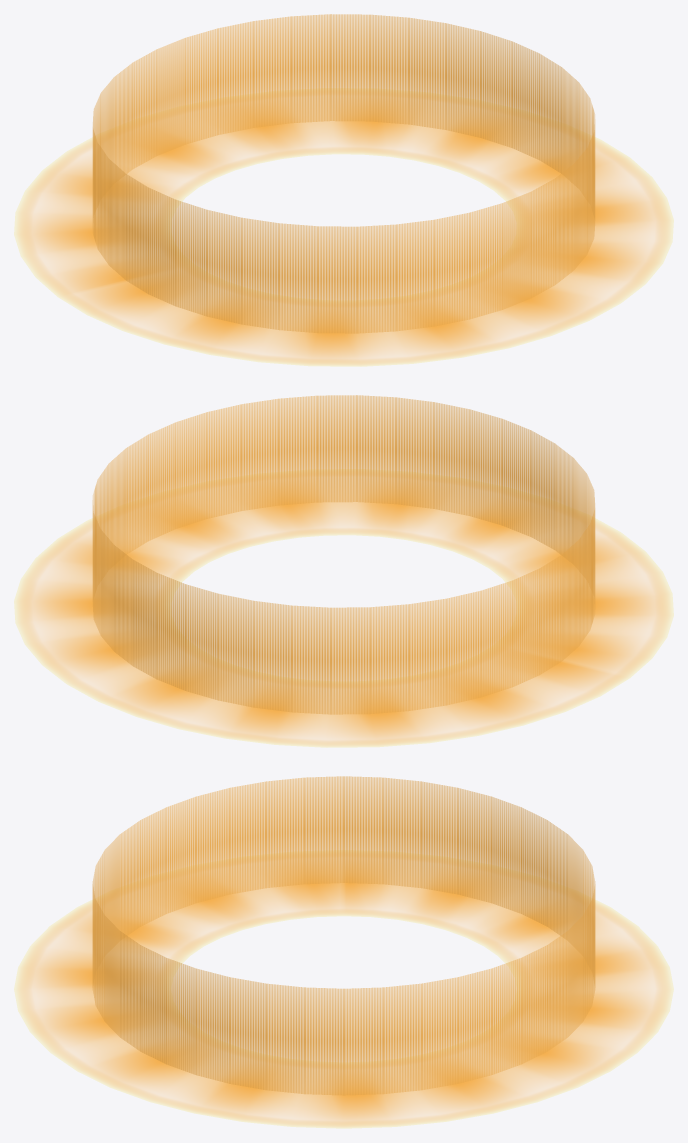
Rendered from fx_mring0.glb.
The picture shows the model from 3 angles, top to bottom: view 1: azimuth 30°, elevation 25°; view 2: azimuth 150°, elevation 25°; view 3: azimuth 270°, elevation 25°; orthographic projection.
Parts seen in each view (by area): view 1: fx_burst; view 2: fx_burst; view 3: fx_burst.
Boxes of the visible parts, x1,y1,x2,y2 form: fx_burst: (14, 14, 673, 366); fx_burst: (14, 395, 673, 747); fx_burst: (14, 776, 673, 1128).
Bounding box in the file's own units: 8.4 × 1.5 × 8.4.
Materials: 1 (1 with a texture image).
